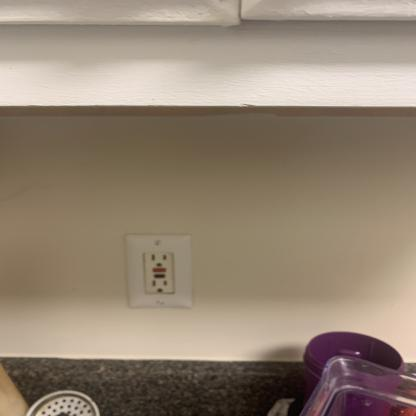OUTLET: (123, 233, 191, 308)
